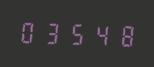eight: (110, 21, 132, 48)
five: (64, 19, 86, 47)
four: (87, 20, 109, 48)
three: (41, 18, 63, 46)
zero: (18, 17, 40, 45)
